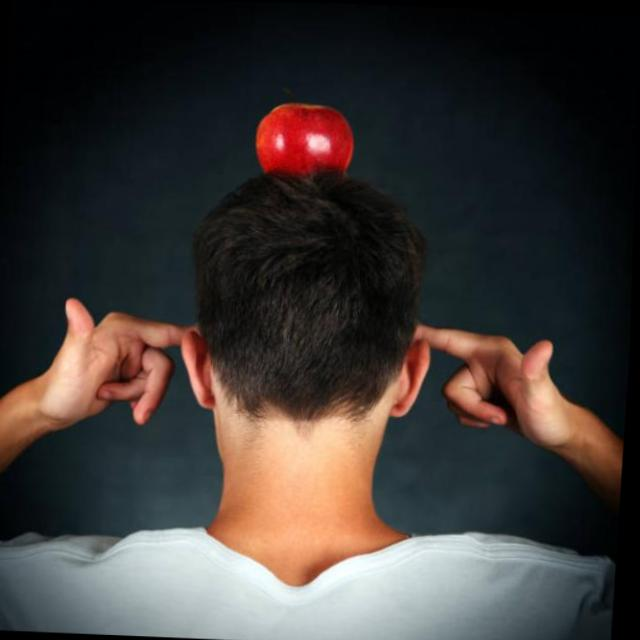no helmet: (144, 164, 462, 486)
